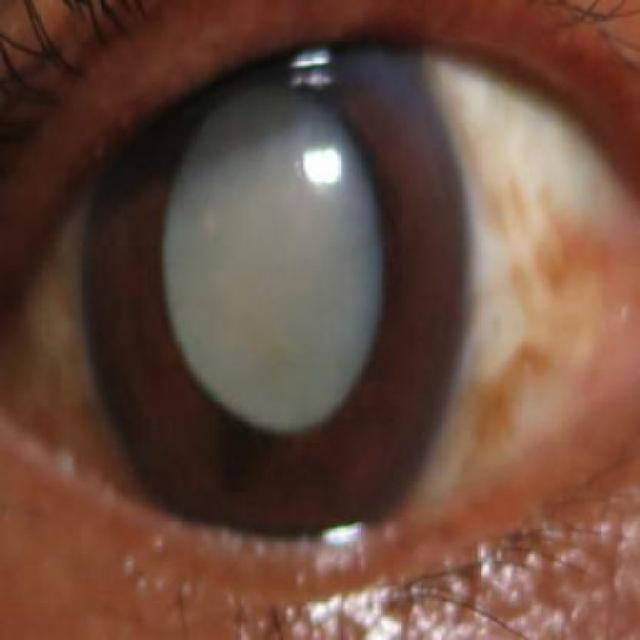Cataract: (78, 0, 461, 552)
